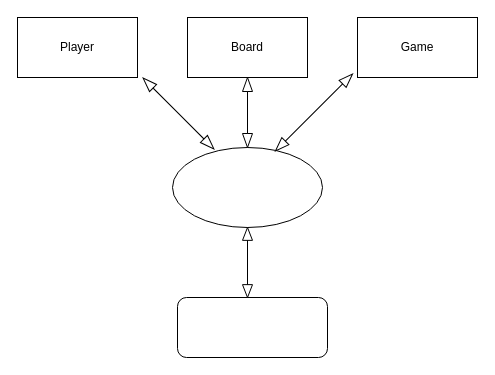
This 495x375 diagram has some shape labels left out. Here are the shapes that lost their labels. From the top down, the centre of each, then its label:
At pixel 247 187: "TicTacToeService".
At pixel 252 327: "TicTacToePresentation".
